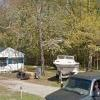Boat: (51, 51, 78, 75)
